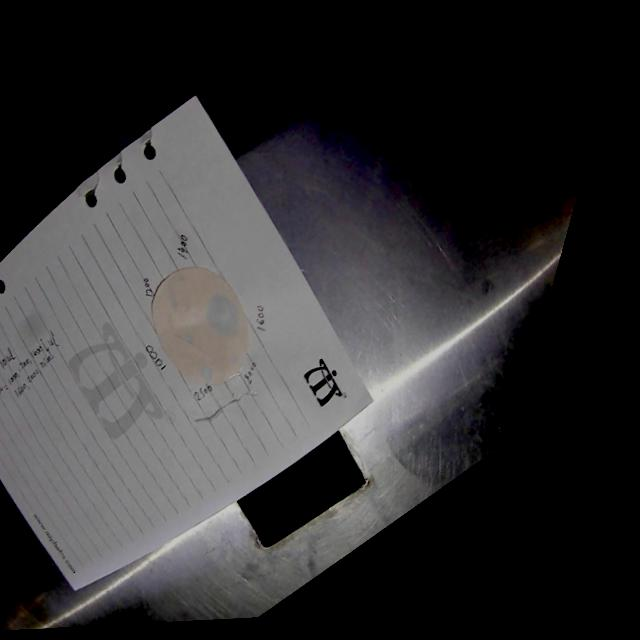BlueColor: (206, 294, 239, 335), (202, 365, 213, 382), (184, 332, 194, 343), (229, 353, 238, 364), (170, 298, 178, 310), (178, 274, 186, 284)
